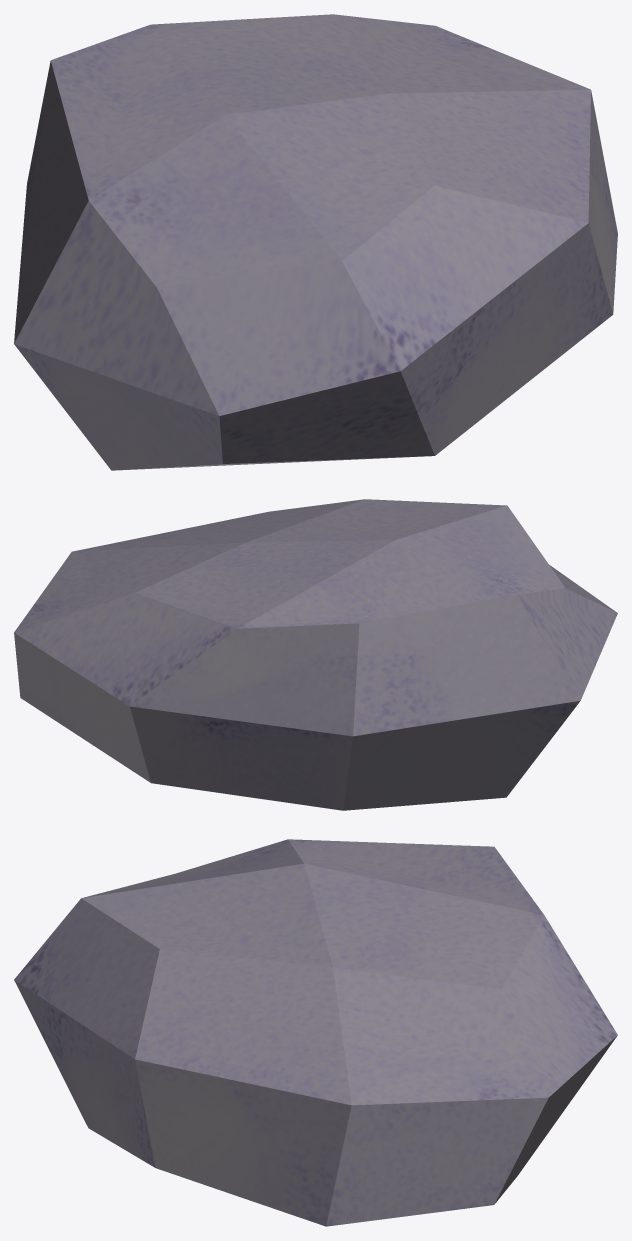
File: rock.fbx
The picture shows the model from 3 angles, top to bottom: view 1: azimuth 30°, elevation 25°; view 2: azimuth 150°, elevation 25°; view 3: azimuth 270°, elevation 25°; orthographic projection. The views are drawn at different scales.
Parts seen in each view (by area): view 1: Cube; view 2: Cube; view 3: Cube.
Part boxes in pixels (x1,y1,x2,y2): Cube: (14, 14, 617, 470); Cube: (14, 499, 617, 810); Cube: (14, 839, 617, 1226).
Bounding box in the file's own units: 176 × 86.62 × 171.
1 material, 1 textured.
